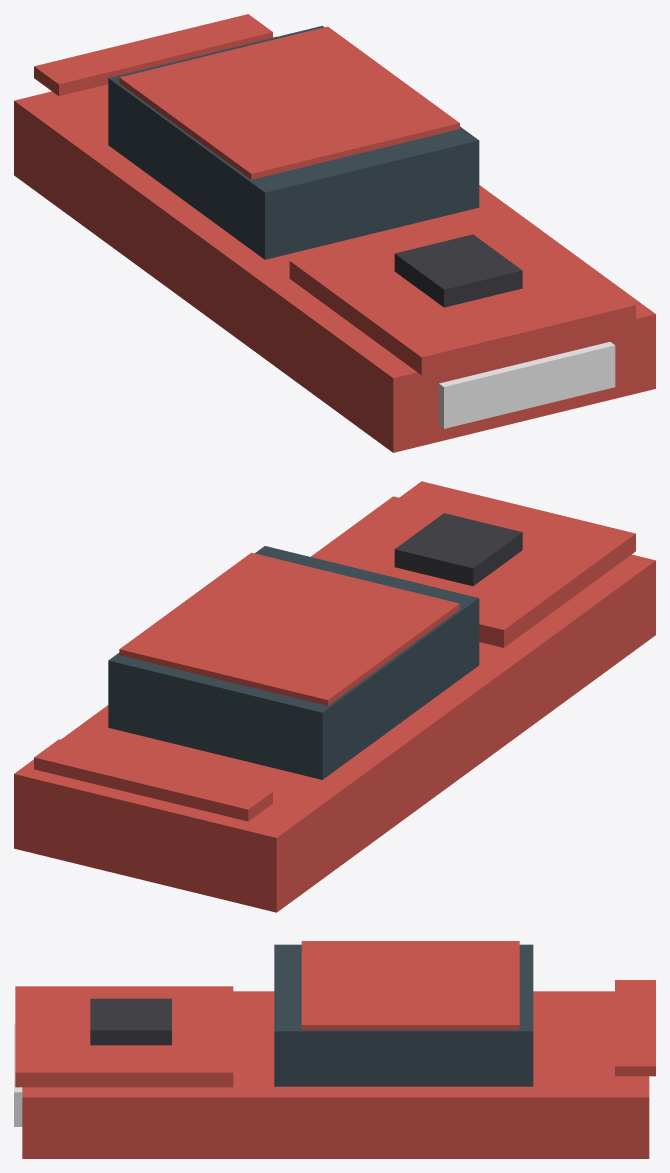
Rendered from demo_conforming.glb.
3 views of the same model, one above another, from view 1: azimuth 30°, elevation 25°; view 2: azimuth 150°, elevation 25°; view 3: azimuth 270°, elevation 25° (orthographic). The views are drawn at different scales.
Parts seen in each view (by area): view 1: body__main, body__cabin, body__roof, hood__cowl_induction, grille__stock, spoiler_rear__ducktail, hood__shaker_scoop, hood__stock; view 2: body__main, body__cabin, body__roof, hood__cowl_induction, spoiler_rear__ducktail, hood__shaker_scoop, hood__stock; view 3: body__main, body__roof, body__cabin, hood__cowl_induction, spoiler_rear__ducktail, hood__shaker_scoop, hood__stock, grille__stock.
Part boxes in pixels (left/top/right/bottom): body__main: left=14, top=36, right=655, bottom=452; body__cabin: left=108, top=26, right=479, bottom=259; body__roof: left=119, top=26, right=459, bottom=179; hood__cowl_induction: left=289, top=208, right=635, bottom=373; grille__stock: left=439, top=342, right=615, bottom=428; spoiler_rear__ducktail: left=34, top=14, right=272, bottom=96; hood__shaker_scoop: left=394, top=234, right=522, bottom=307; hood__stock: left=289, top=270, right=635, bottom=374; body__main: left=14, top=496, right=655, bottom=912; body__cabin: left=108, top=546, right=479, bottom=779; body__roof: left=119, top=552, right=459, bottom=705; hood__cowl_induction: left=316, top=481, right=635, bottom=647; spoiler_rear__ducktail: left=34, top=739, right=272, bottom=821; hood__shaker_scoop: left=394, top=513, right=522, bottom=586; hood__stock: left=479, top=543, right=635, bottom=647; body__main: left=22, top=991, right=649, bottom=1158; body__roof: left=301, top=941, right=519, bottom=1029; body__cabin: left=274, top=944, right=533, bottom=1086; hood__cowl_induction: left=15, top=986, right=233, bottom=1087; spoiler_rear__ducktail: left=615, top=980, right=655, bottom=1076; hood__shaker_scoop: left=90, top=998, right=171, bottom=1045; hood__stock: left=15, top=1080, right=233, bottom=1087; grille__stock: left=14, top=1023, right=22, bottom=1126.
Bounding box in the file's own units: 1.84 × 0.995 × 4.71.
